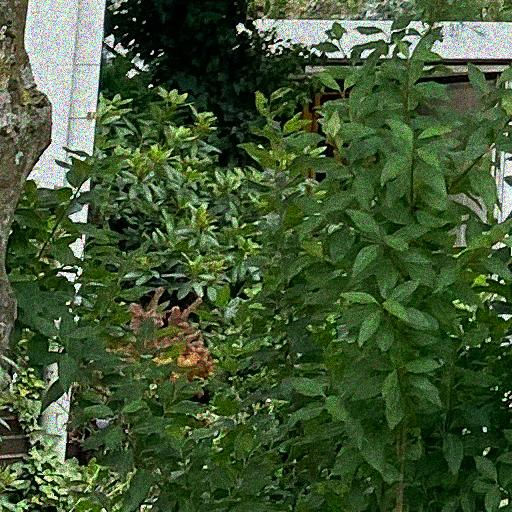tree: (103, 1, 325, 172), (1, 1, 59, 511)
